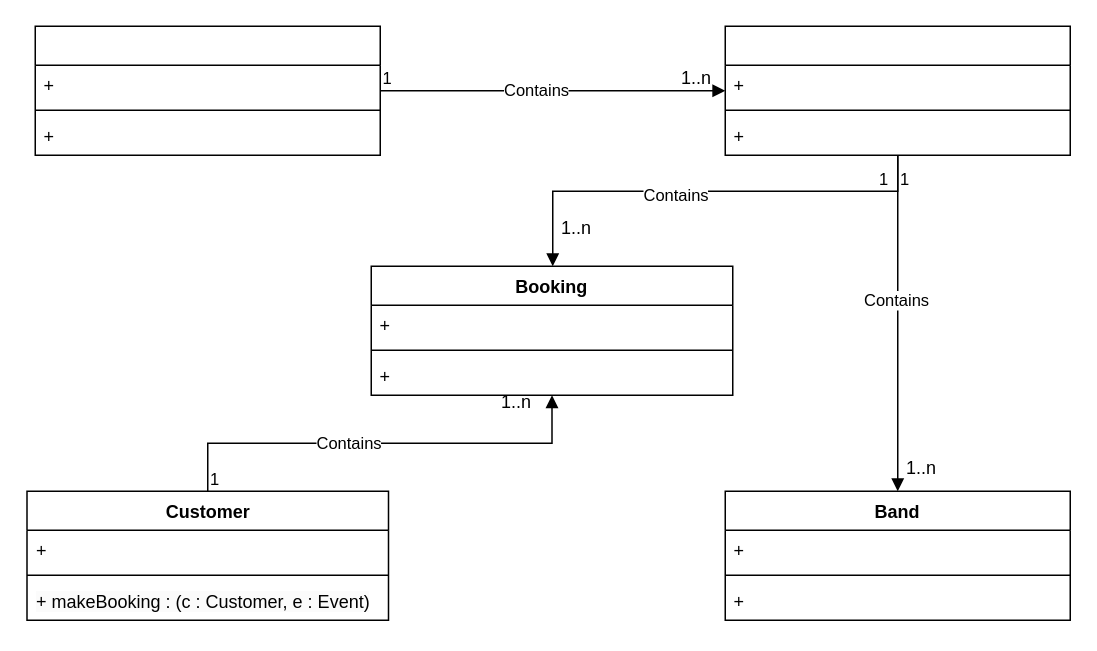
Some shapes in this 1097 by 651 pixel diagram are drawn without their labels. Here are the shapes that lost their labels. From the top down, the box of each, then its label:
(34, 25, 380, 155): Venue
(724, 25, 1070, 155): Event
